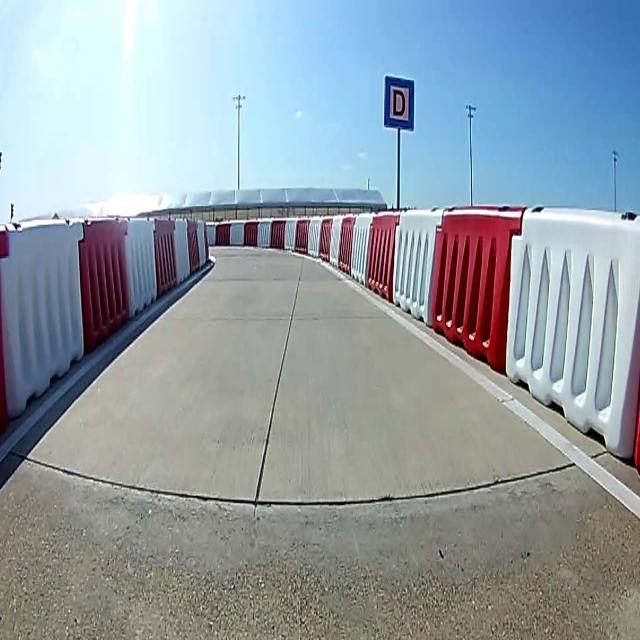durak: (384, 75, 414, 129)
